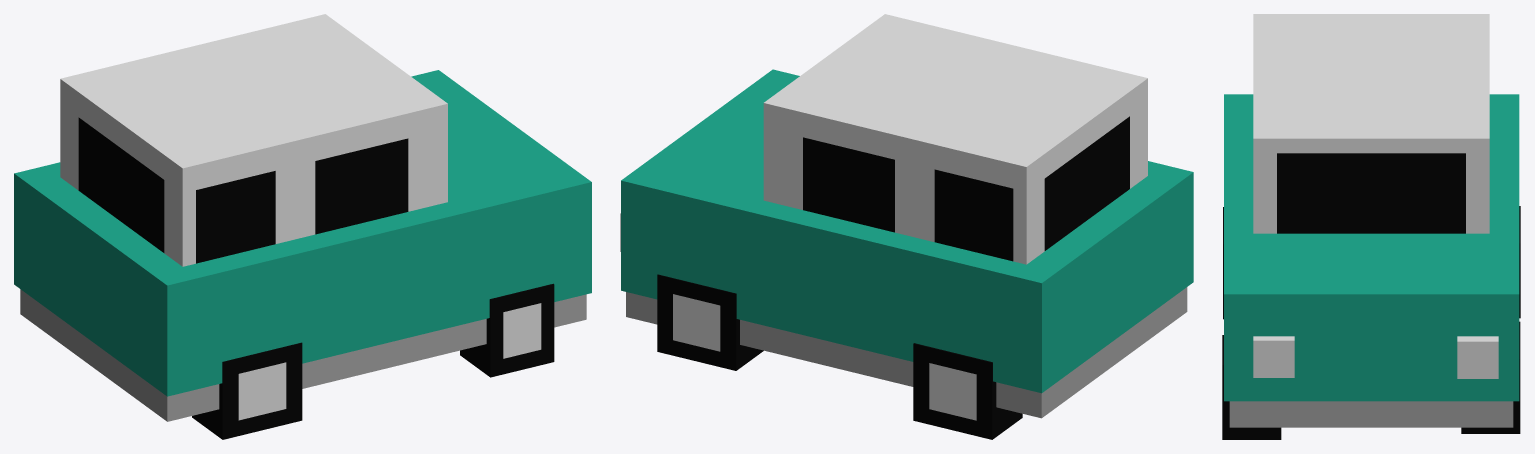
File: lightgreencar.fbx
3 renders of one model, left to right at view 1: azimuth 30°, elevation 25°; view 2: azimuth 150°, elevation 25°; view 3: azimuth 270°, elevation 25°, orthographic. The views are drawn at different scales.
Parts seen in each view (by area): view 1: pCube1, pasted__pCube1, pCube4, pasted__pCube2, pCube2; view 2: pCube1, pasted__pCube1, pCube4, pasted__pasted__pCube2, pasted__pCube2; view 3: pCube1, pasted__pCube1, pCube4, pasted__pCube3, pCube3, pCube2, pasted__pCube2.
Boxes of the visible parts, bbox=[...] form: pCube1: bbox=[14, 70, 591, 396]; pasted__pCube1: bbox=[60, 14, 447, 266]; pCube4: bbox=[20, 289, 586, 421]; pasted__pCube2: bbox=[192, 342, 302, 439]; pCube2: bbox=[460, 283, 554, 377]; pCube1: bbox=[621, 69, 1193, 393]; pasted__pCube1: bbox=[763, 14, 1147, 264]; pCube4: bbox=[626, 287, 1187, 418]; pasted__pasted__pCube2: bbox=[913, 343, 1022, 439]; pasted__pCube2: bbox=[657, 274, 763, 370]; pCube1: bbox=[1224, 94, 1519, 401]; pasted__pCube1: bbox=[1253, 14, 1489, 233]; pCube4: bbox=[1229, 401, 1513, 427]; pasted__pCube3: bbox=[1457, 336, 1498, 378]; pCube3: bbox=[1253, 336, 1294, 377]; pCube2: bbox=[1222, 335, 1281, 439]; pasted__pCube2: bbox=[1461, 321, 1520, 433].
Bounding box in the file's own units: 8.21 × 4.83 × 5.05.
